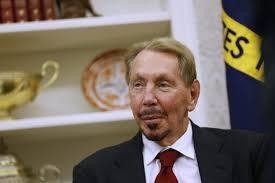person: (121, 35, 206, 147)
